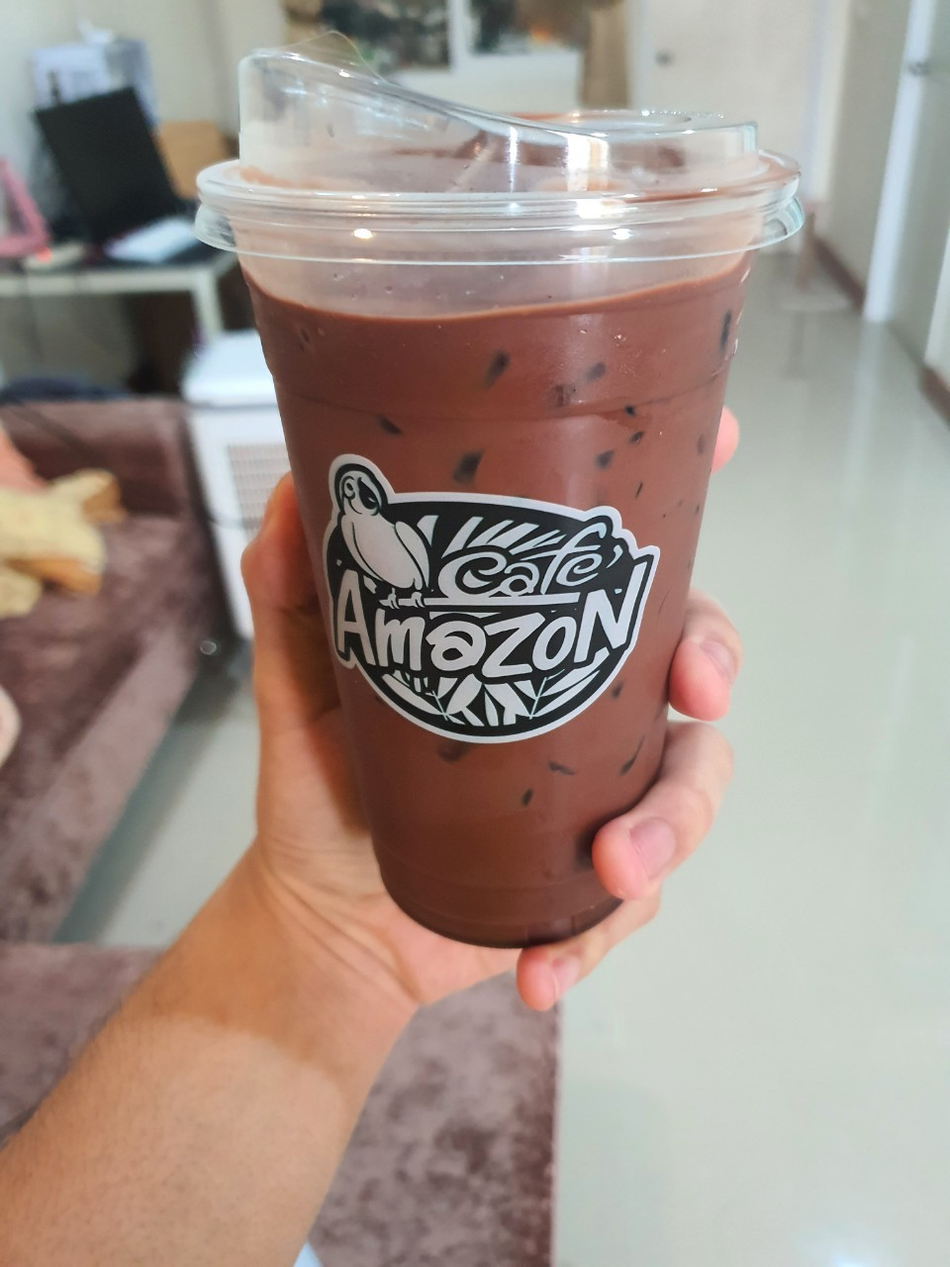plastic: (156, 41, 828, 961)
